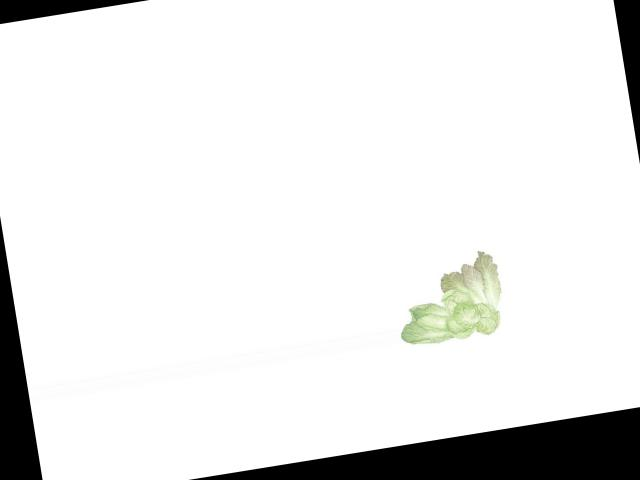lettuce: (388, 243, 510, 354)
